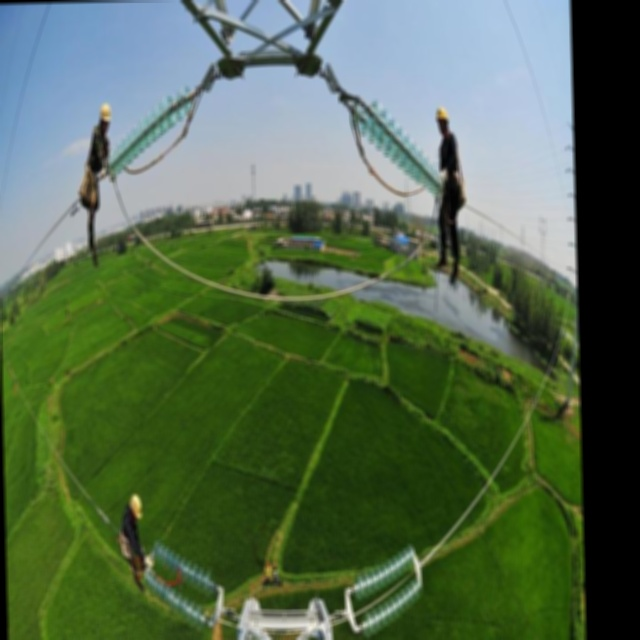Con_Casco: (435, 106, 449, 138), (129, 494, 142, 526), (99, 102, 112, 133)
